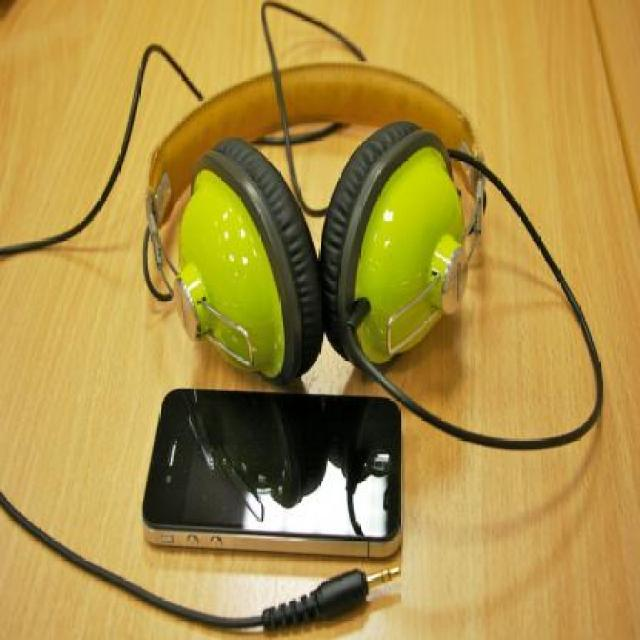earphone: (127, 45, 525, 361)
smart phone: (118, 375, 416, 573)
